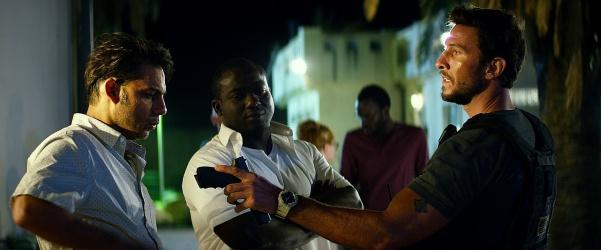Gun: (196, 157, 273, 227)
